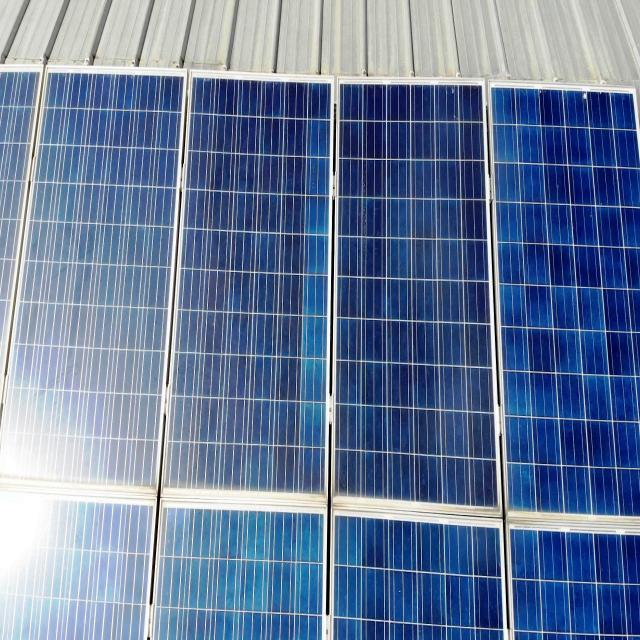faulty: (487, 86, 640, 520)
no faulty: (334, 77, 507, 518), (9, 70, 184, 504), (162, 70, 334, 507)
